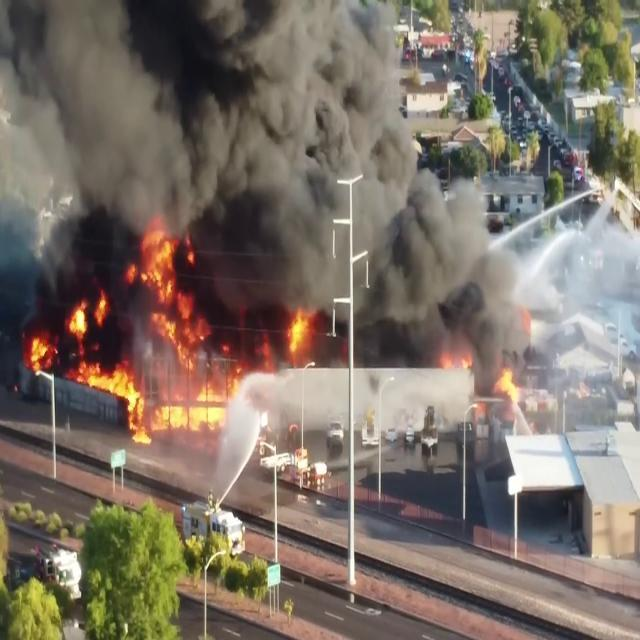Fire: (76, 224, 240, 434), (432, 348, 480, 402), (282, 302, 318, 364), (494, 367, 524, 412)
Smoke: (0, 1, 580, 384), (317, 76, 555, 377)
